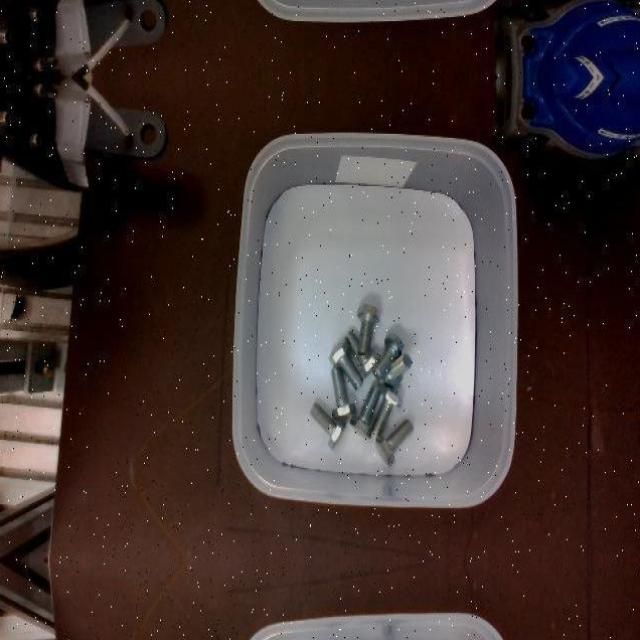screw: (329, 337, 362, 390), (376, 418, 414, 464), (309, 401, 346, 446), (351, 382, 378, 438), (374, 333, 406, 380), (372, 384, 402, 434), (331, 367, 357, 420), (356, 303, 379, 354)
